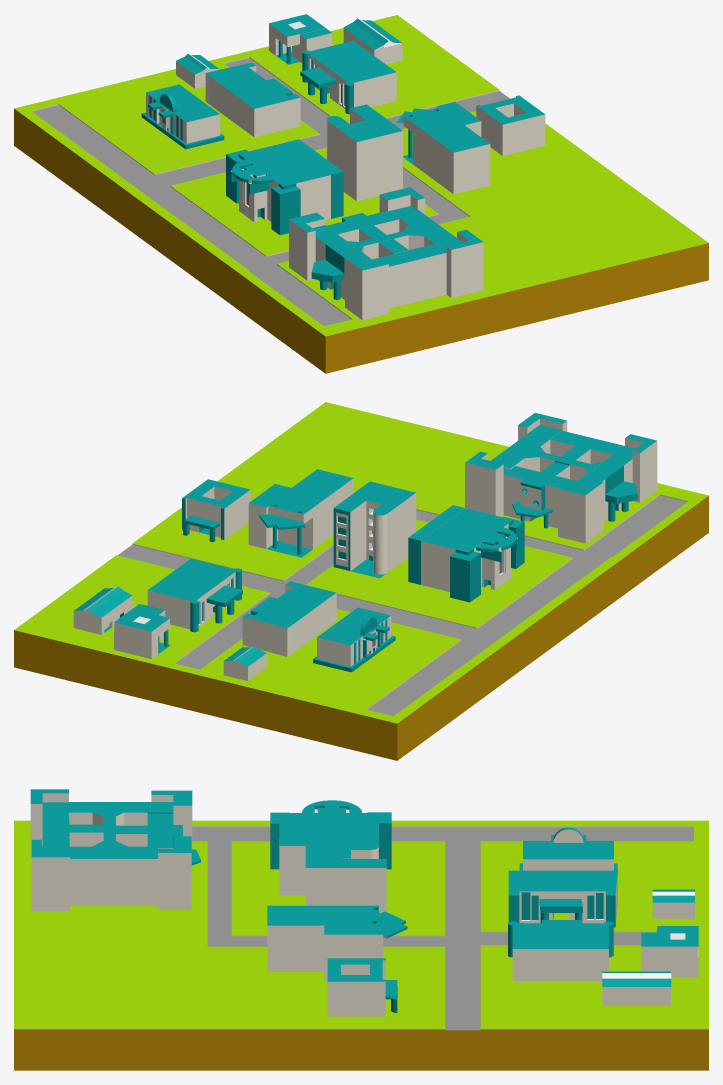
3 views of the same model, one above another, from view 1: azimuth 30°, elevation 25°; view 2: azimuth 150°, elevation 25°; view 3: azimuth 270°, elevation 25° (orthographic). The views are drawn at different scales.
Parts seen in each view (by area): view 1: Root Node; view 2: Root Node; view 3: Root Node.
Part boxes in pixels (<box>): Root Node: <box>14,14,708,373</box>; Root Node: <box>14,402,708,760</box>; Root Node: <box>14,789,708,1070</box>.
Size of the model in its own units: 319354 by 76801 by 449695.
